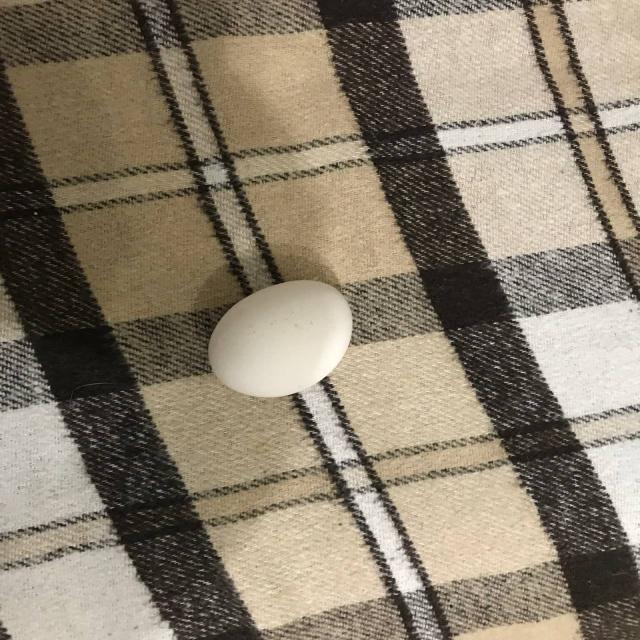egg: (206, 278, 354, 399)
